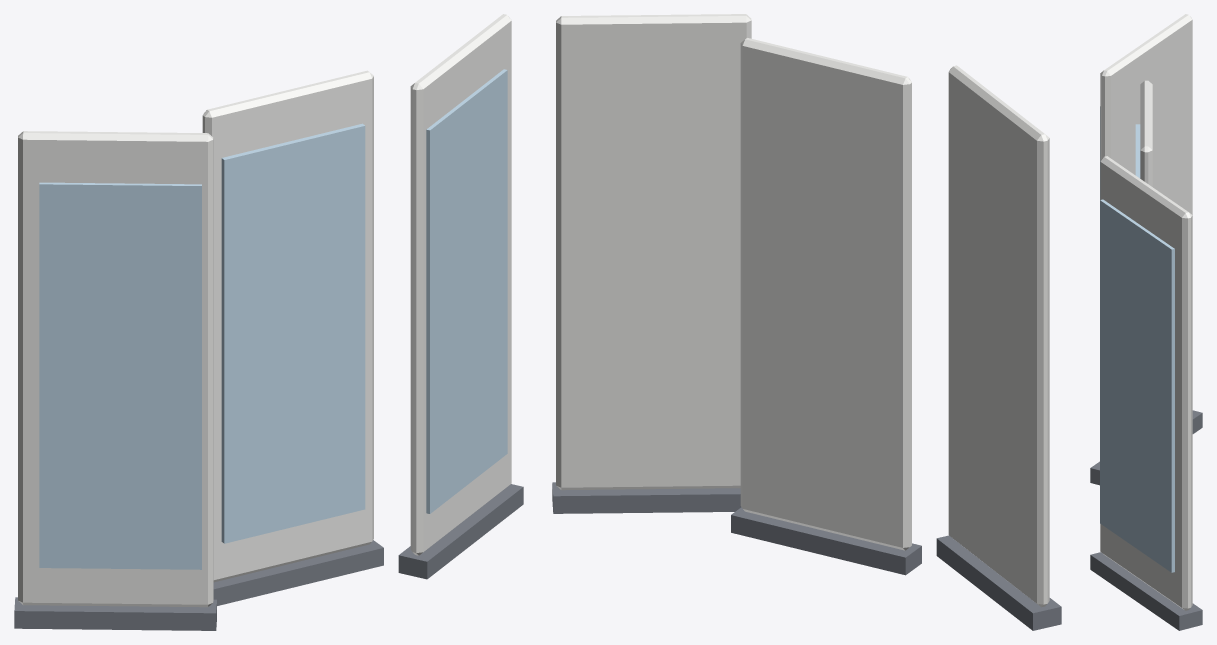
Rendered from hospital-wards-and-clinic-operations-privacy-screen-6adde32a.glb.
3 views of the same model, side by side, from view 1: azimuth 30°, elevation 25°; view 2: azimuth 150°, elevation 25°; view 3: azimuth 270°, elevation 25° (orthographic). The views are drawn at different scales.
Parts seen in each view (by area): view 1: privacy-screen; view 2: privacy-screen; view 3: privacy-screen.
Boxes of the visible parts, x1,y1,x2,y2 form: privacy-screen: (14,14,523,630); privacy-screen: (552,14,1061,630); privacy-screen: (1090,14,1202,630).
Size of the model in its own units: 1.81 by 1.66 by 0.4093.
